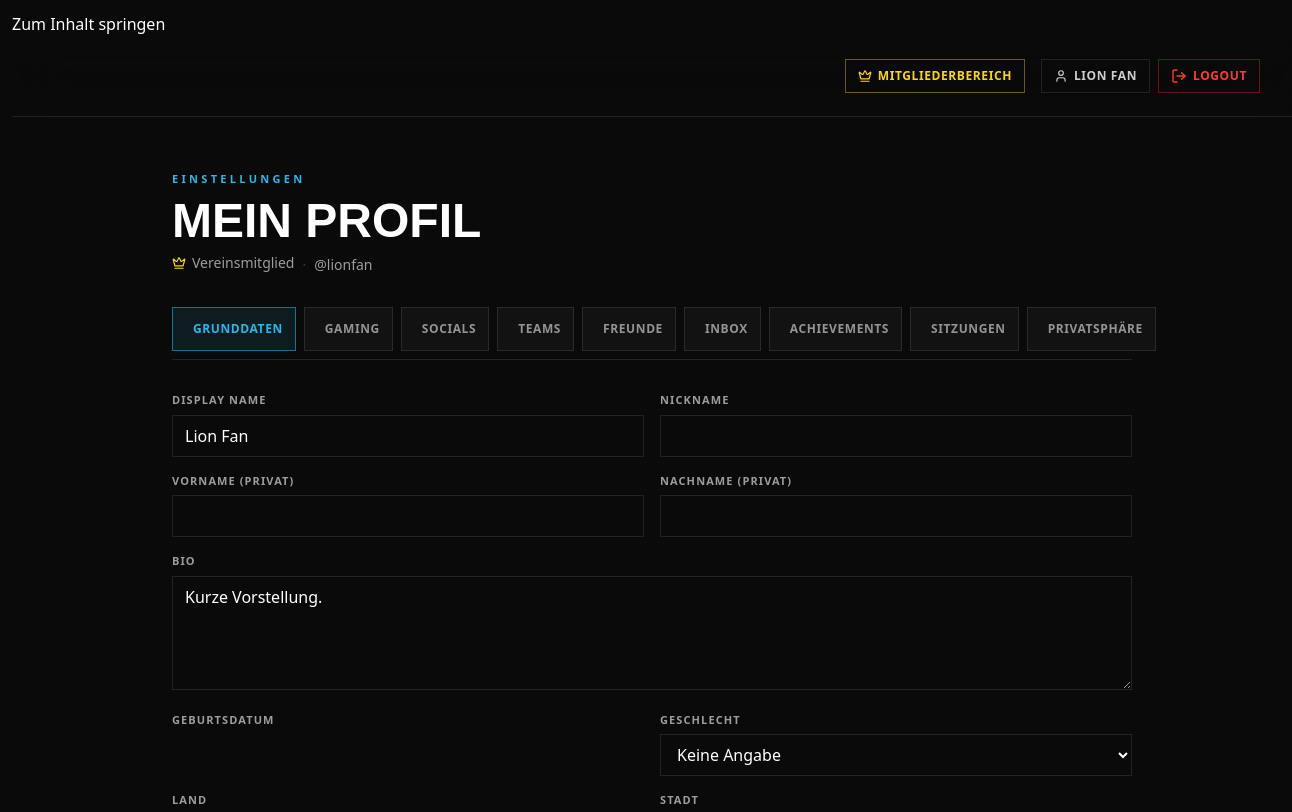
Test: laedt die eigenen Profildaten in das Formular
Expected: the text box with test id "profile-bio" holds "Kurze Vorstellung.", top-left (172, 576), bottom-right (1132, 690)
Click the button "Privatsphäre" at (1091, 329), box top-left (1027, 307), bottom-right (1156, 351)
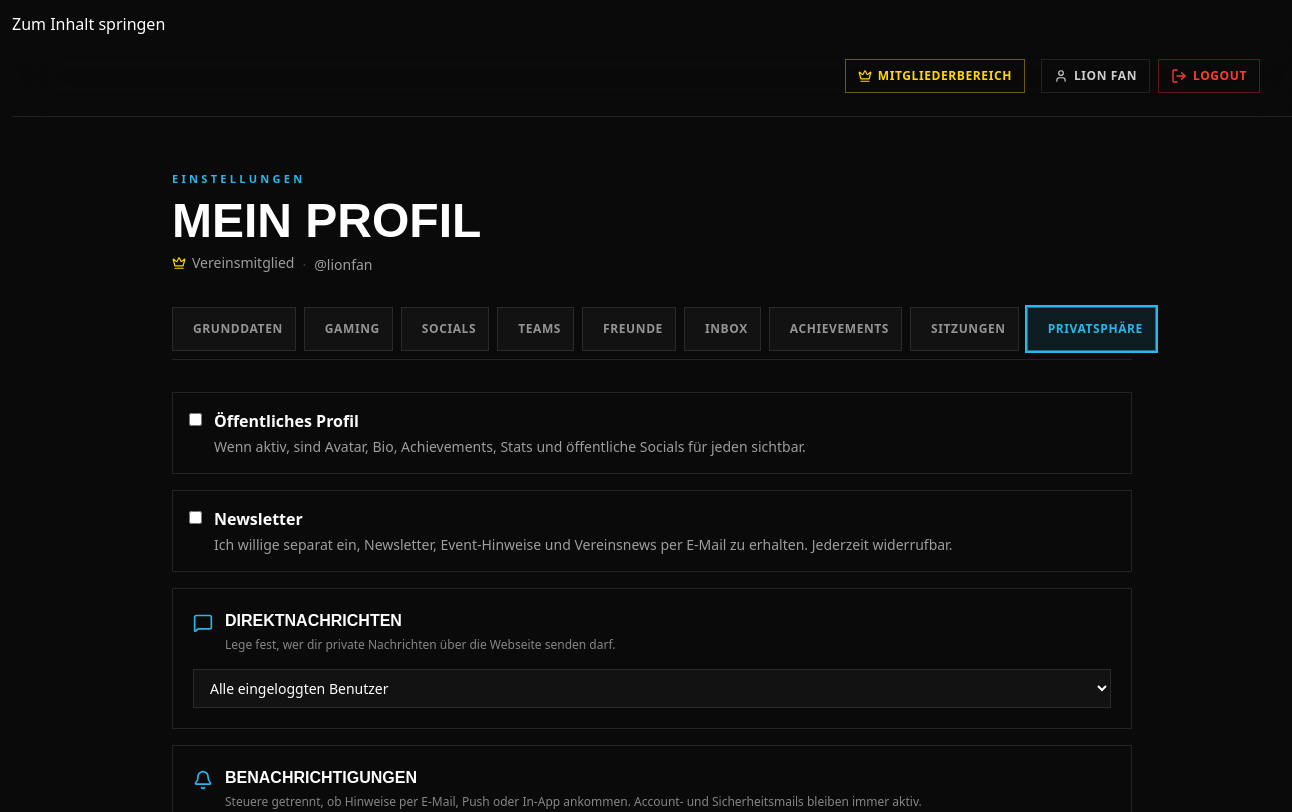
Expected: the checkbox with test id "profile-privacy" is not checked, top-left (189, 413), bottom-right (202, 426)
